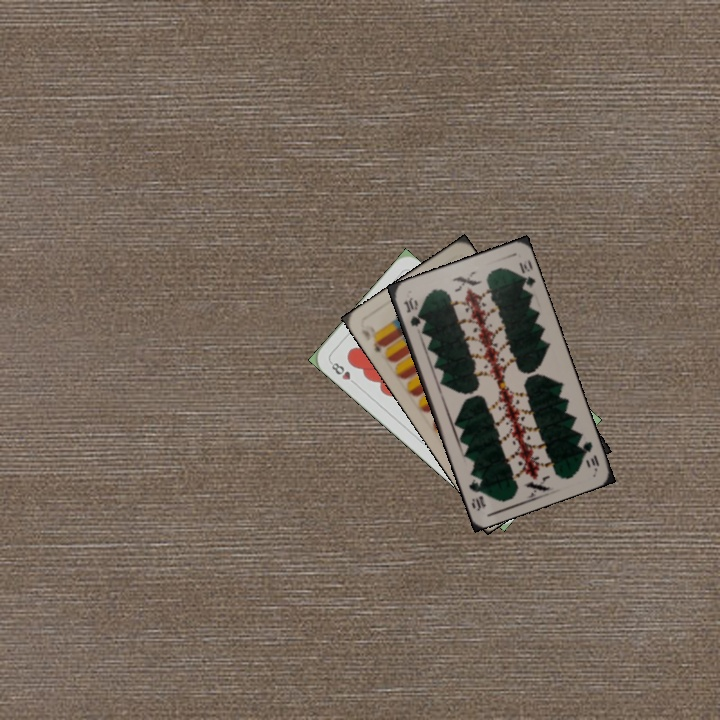E10: (367, 332, 388, 355)
G10: (399, 293, 423, 329), (577, 437, 602, 471)
H8: (326, 357, 360, 388)
